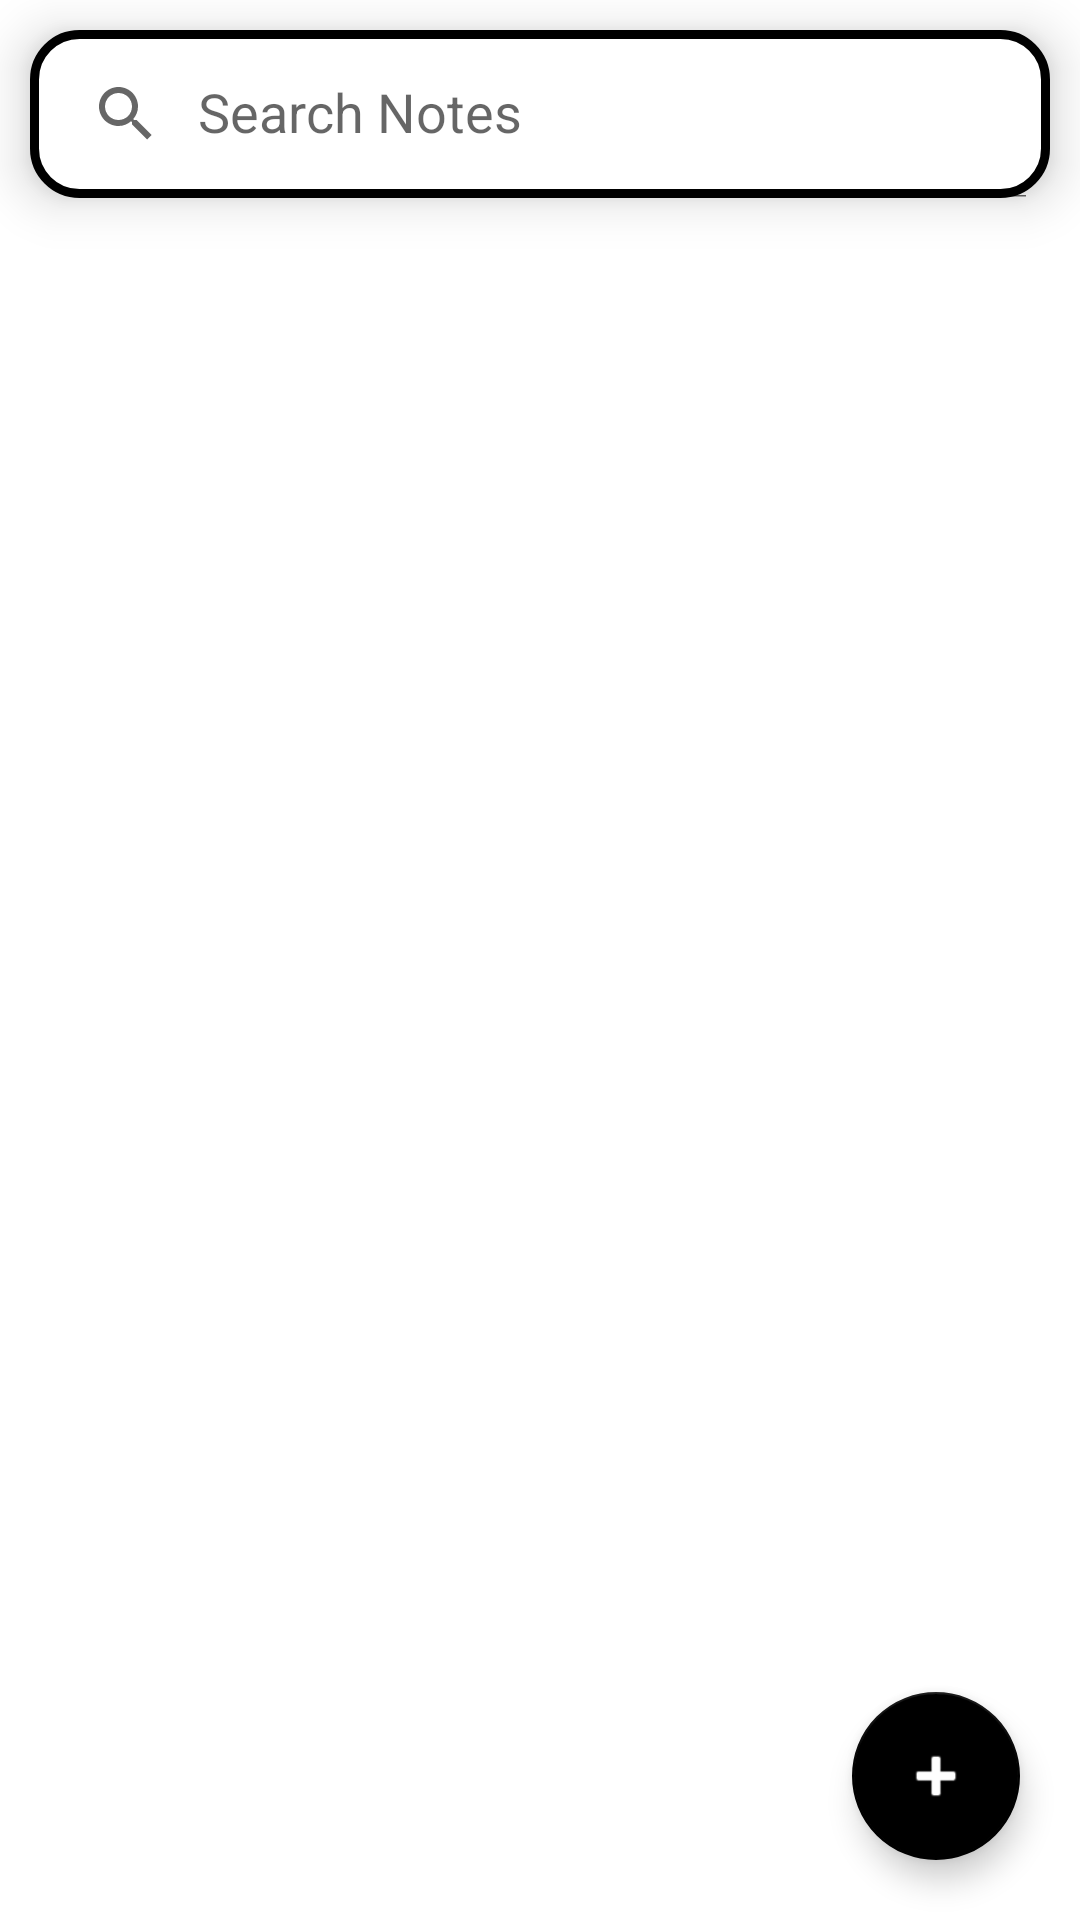

Where to tap for icons on this 1080×1920 app screen, as [x,y]:
Add Task: [936,1776]
